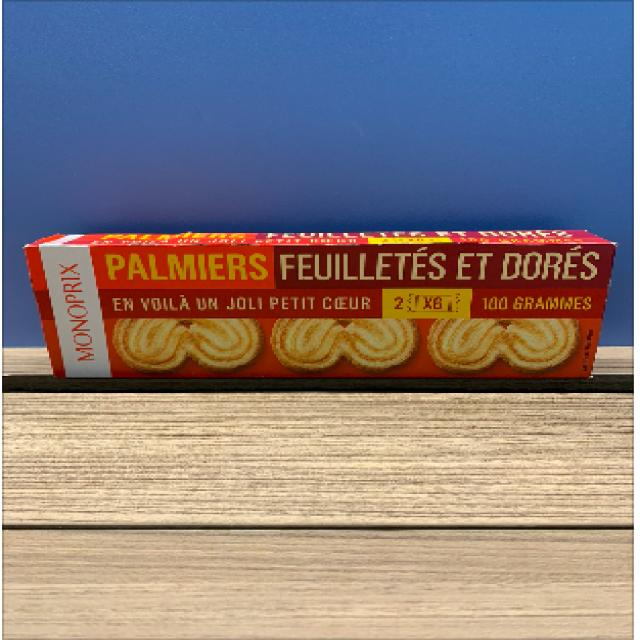object_name: (29, 238, 605, 379)
